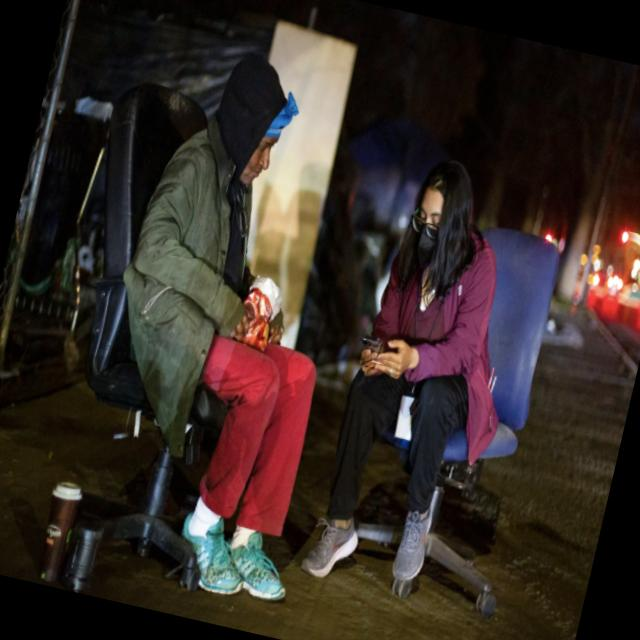Jacket: (84, 110, 300, 416), (331, 228, 541, 482)
